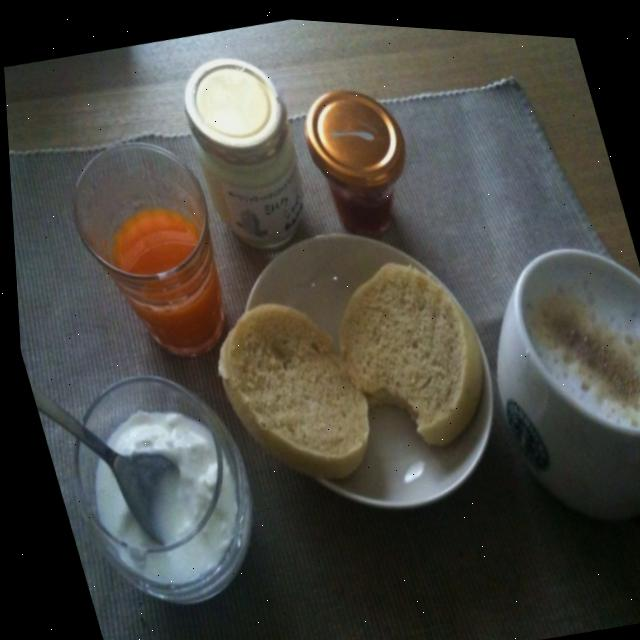面包点心: (173, 191, 526, 529)
